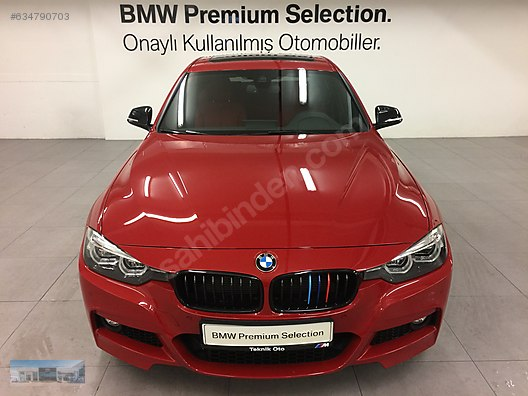b: (73, 47, 456, 382)
